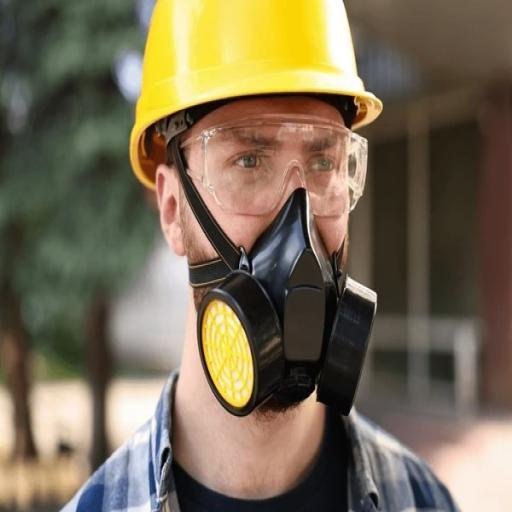mask: (185, 188, 405, 430)
